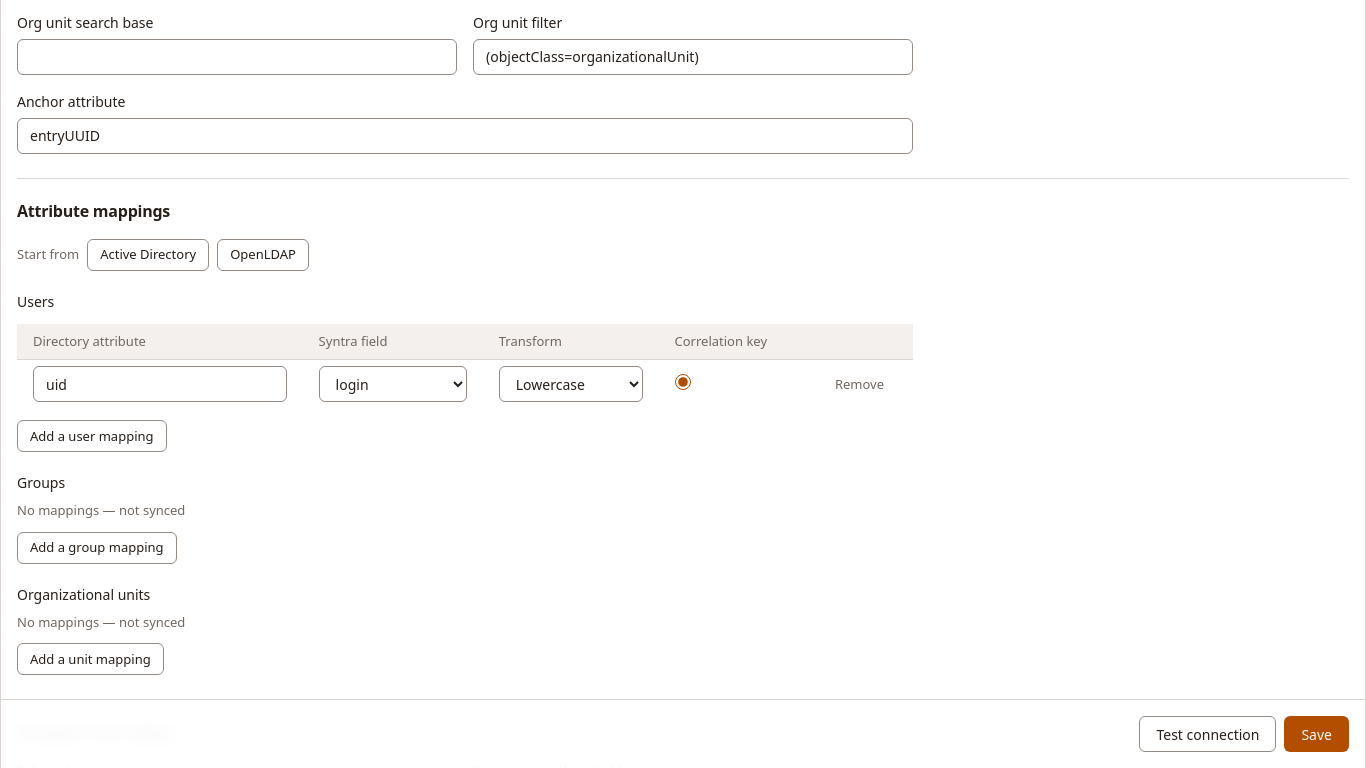
saving a mapping change › leaves the edited attribute on screen rather than redrawing the old one
The width and height of the screenshot is (1366, 768).
(page scrolled)
Replace the text in the field named "Users directory attribute 1" with "sAMAccountName". click: (160, 384)
box: 33,366 -> 287,402
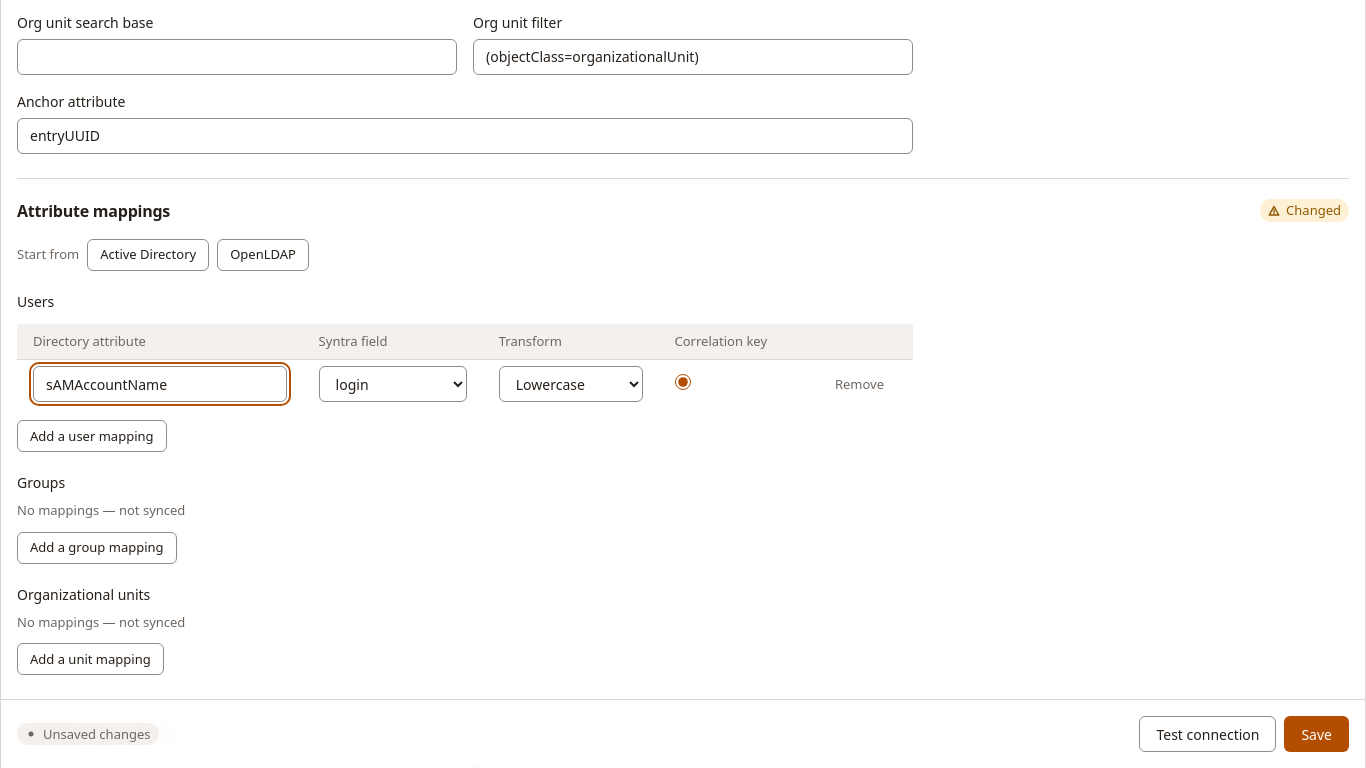
Click the button "Save". click: (1317, 734)
box: 1284,716 -> 1349,752
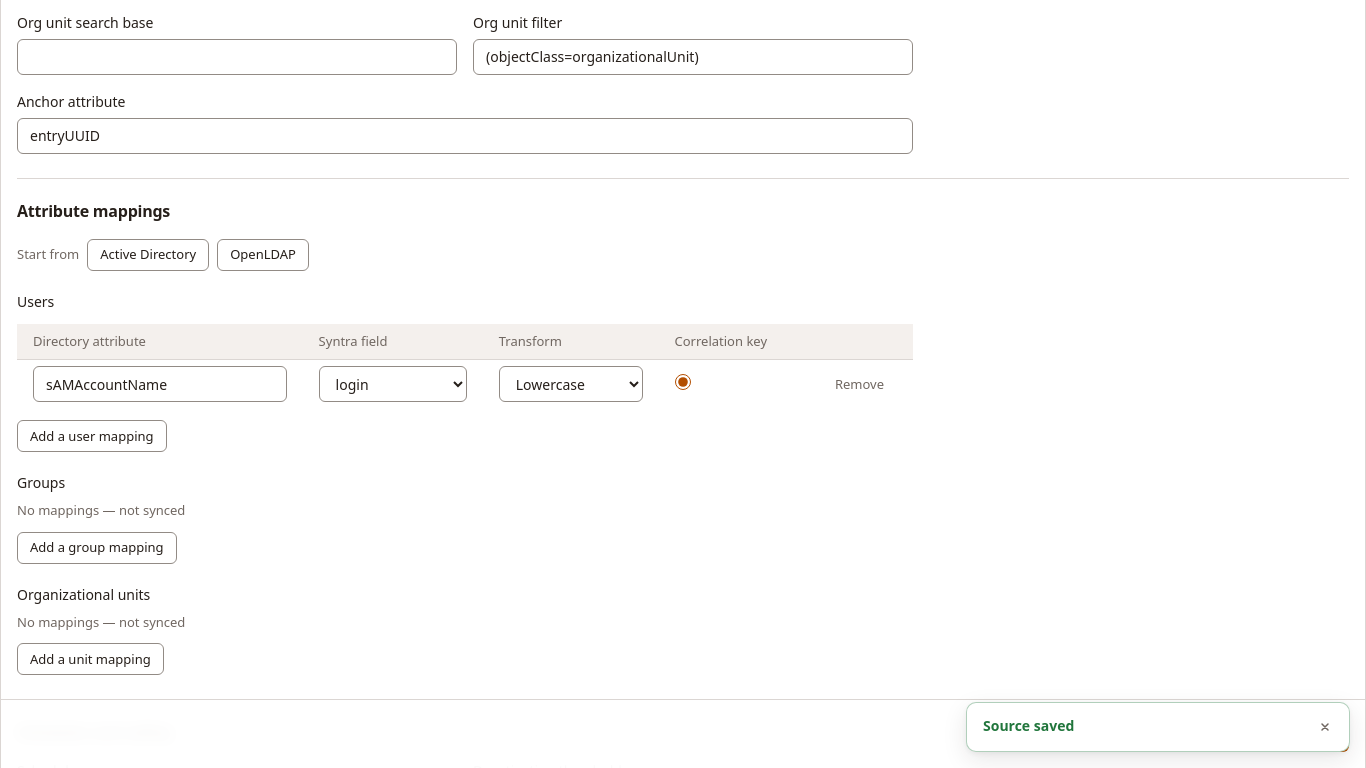
Result: the text "Source saved" is shown at 983,716 -> 1074,735
